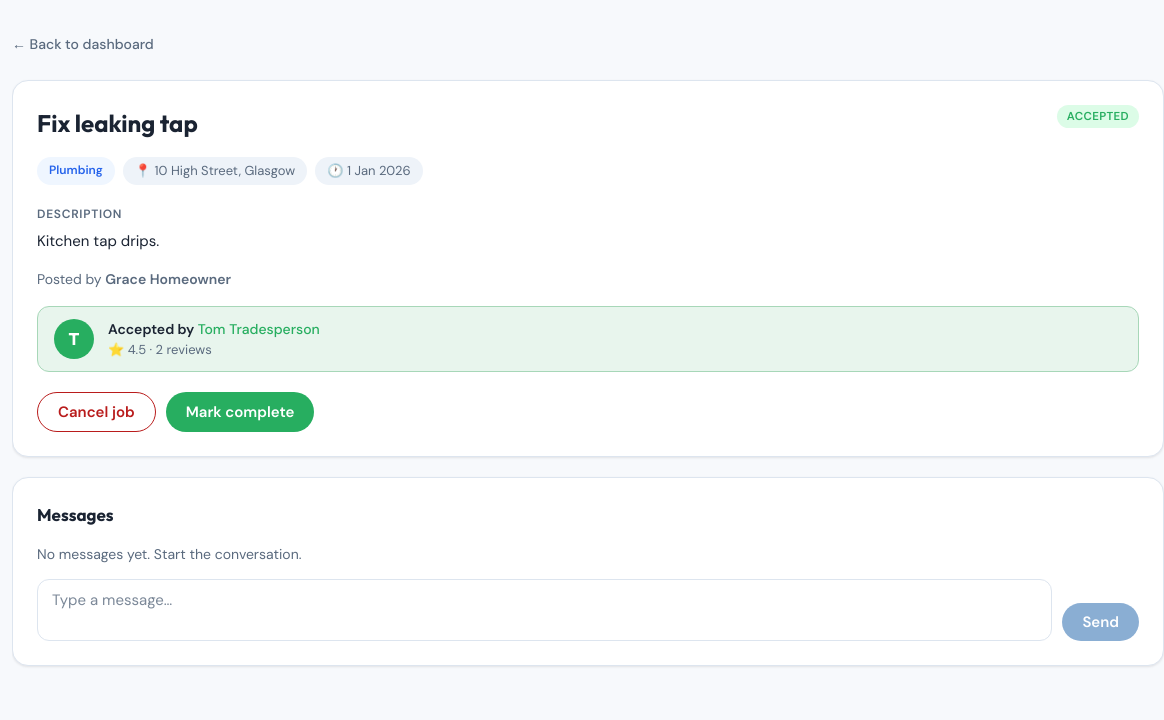
it: JobDetail page › sending a message posts to the API and appends it to the conversation
Expected: the text "No messages yet. Start the conversation." is shown, [37,544,302,562]
Type "On my way" into the text box with placeholder "Type a message…" at (545, 610), box [37,578,1052,640]
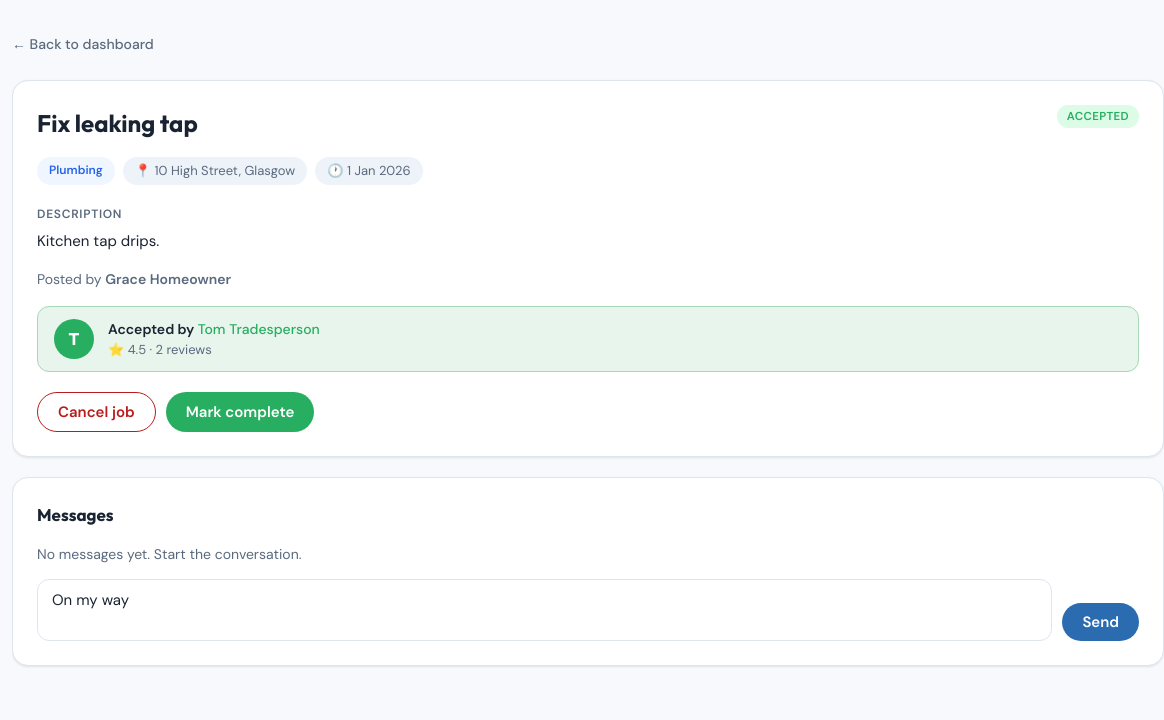
Click the button "Send" at (1101, 622), box [1062,602,1139,640]
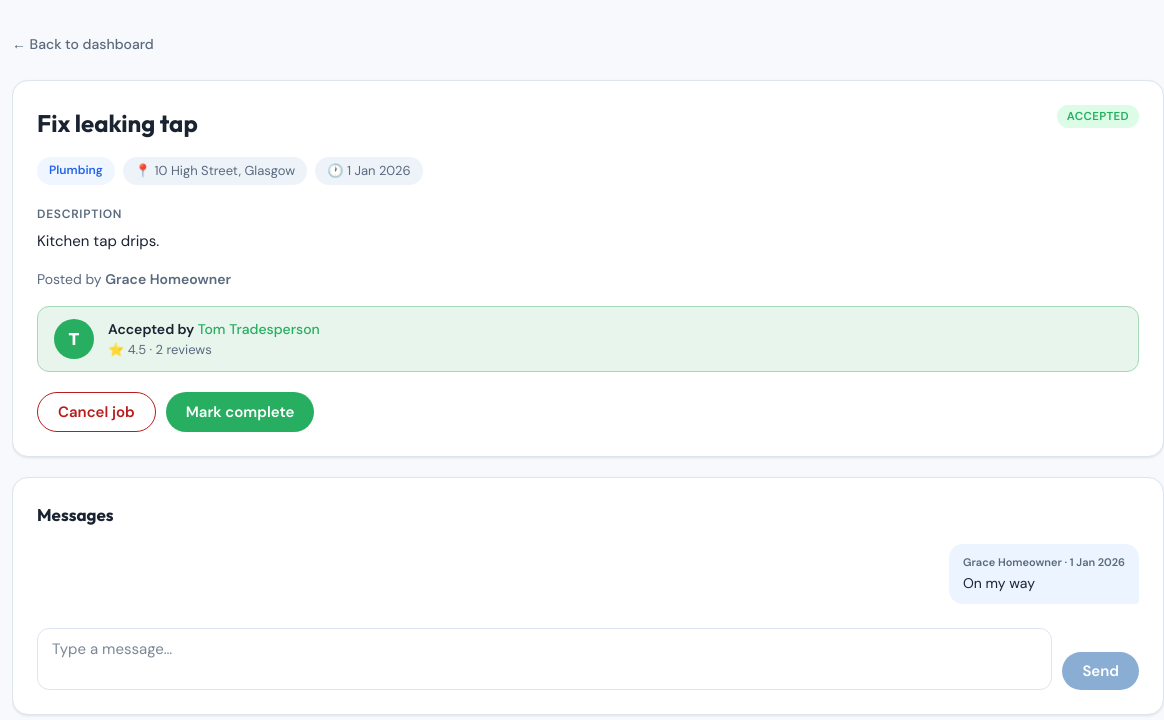
Now the text "On my way" is shown, box [963,574,1035,592]
